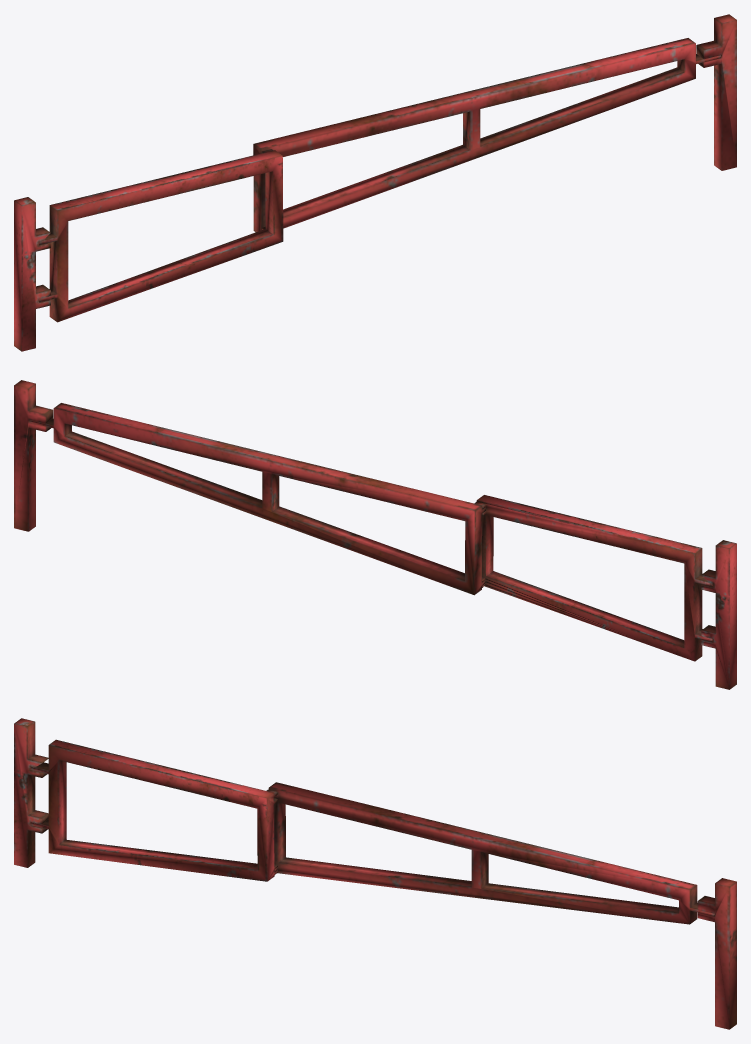
The model's file is roadbarrier03.glb.
3 views of the same model, one above another, from view 1: azimuth 30°, elevation 25°; view 2: azimuth 150°, elevation 25°; view 3: azimuth 330°, elevation 25° (orthographic). The views are drawn at different scales.
Visible parts, largest first — view 1: Gate1_low, Gate2_low; view 2: Gate1_low, Gate2_low; view 3: Gate1_low, Gate2_low.
Part boxes in pixels (x1=…): Gate1_low: x1=253, y1=14, x2=736, y2=232; Gate2_low: x1=14, y1=149, x2=283, y2=351; Gate1_low: x1=14, y1=380, x2=485, y2=595; Gate2_low: x1=474, y1=495, x2=736, y2=689; Gate1_low: x1=268, y1=782, x2=736, y2=1029; Gate2_low: x1=14, y1=718, x2=277, y2=881.
Bounding box in the file's own units: 11.87 × 2.3 × 0.5535.
Materials: 2 (2 with a texture image).
